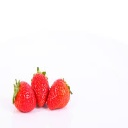strawberry: (46, 77, 72, 111), (13, 79, 37, 113), (30, 68, 49, 108)
